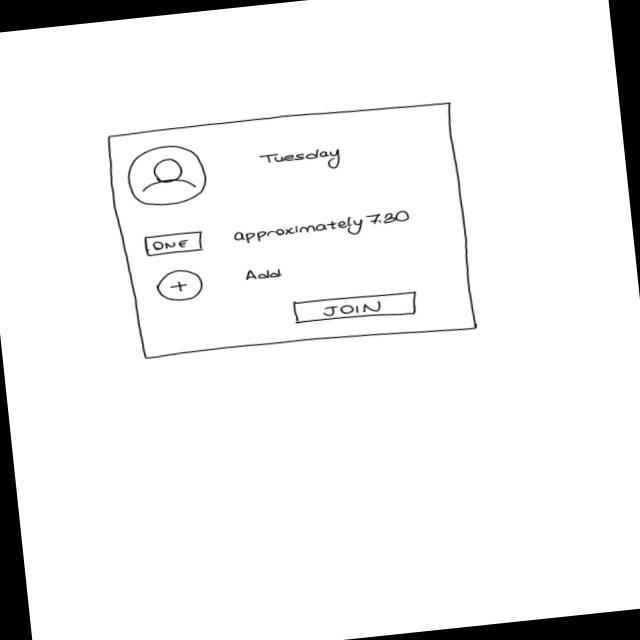button: (291, 288, 418, 328), (143, 230, 205, 258)
icon-button: (153, 267, 204, 303)
label: (231, 208, 412, 248), (258, 144, 344, 177), (242, 265, 284, 282)
